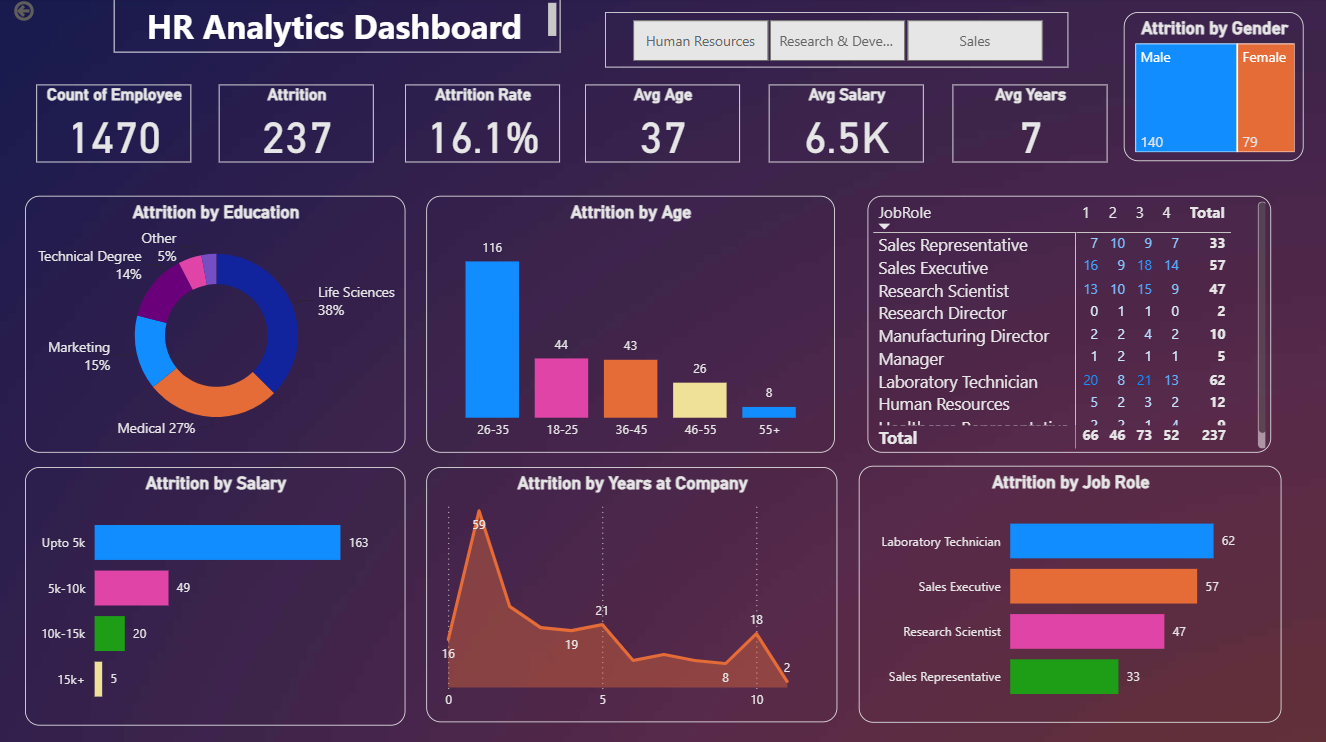

The dashboard page shown, as its layout file describes it:
{"tool":"powerbi","page":{"name":"Page 1","canvas":[1280,720],"ordinal":0},"visuals":[{"type":"card","title":"Count of Employee","fields":{"Values":["CountNonNull(HR_Analytics.EmpID)"]},"box":[35.3,84,149.5,75.6],"z":0},{"type":"card","title":"Attrition","fields":{"Values":["Sum(HR_Analytics.AttritionCount)"]},"box":[211.7,84,149.5,75.6],"z":1000},{"type":"card","title":"Attrition Rate","fields":{"Values":["HR_Analytics.AttritionRate"]},"box":[391.4,84,149.5,75.6],"z":2000},{"type":"card","title":"Avg Age","fields":{"Values":["Avg(HR_Analytics.Age)"]},"box":[564.4,84,149.5,75.6],"z":3000},{"type":"actionButton","box":[10.1,0,100.8,26.9],"z":4000},{"type":"card","title":"Avg Salary","fields":{"Values":["Avg(HR_Analytics.MonthlyIncome)"]},"box":[742.5,84,149.5,75.6],"z":5000},{"type":"card","title":"Avg Years","fields":{"Values":["Avg(HR_Analytics.YearsAtCompany)"]},"box":[918.8,84,149.5,75.6],"z":6000},{"type":"donutChart","title":"Attrition by Education","fields":{"Y":["Sum(HR_Analytics.AttritionCount)"],"Category":["HR_Analytics.EducationField","HR_Analytics.YearsAtCompany"]},"box":[24.1,191.3,367.1,248],"z":7000},{"type":"columnChart","title":"Attrition by Age","fields":{"Category":["HR_Analytics.AgeGroup"],"Y":["Sum(HR_Analytics.AttritionCount)"]},"box":[411,191.3,394,248],"z":8000},{"type":"pivotTable","fields":{"Rows":["HR_Analytics.JobRole"],"Columns":["HR_Analytics.JobSatisfaction"],"Values":["Sum(HR_Analytics.AttritionCount)"]},"box":[837.6,191.3,389.8,248],"z":9000},{"type":"barChart","title":"Attrition by Salary","fields":{"Category":["HR_Analytics.SalarySlab"],"Y":["Sum(HR_Analytics.AttritionCount)"]},"box":[24.1,453.5,367.1,249.4],"z":10000},{"type":"barChart","title":"Attrition by Job Role","fields":{"Category":["HR_Analytics.JobRole"],"Y":["Sum(HR_Analytics.AttritionCount)"]},"box":[829.1,452.1,408.2,248],"z":11000},{"type":"areaChart","title":"Attrition by Years at Company","fields":{"Category":["HR_Analytics.YearsAtCompany"],"Y":["Sum(HR_Analytics.AttritionCount)"]},"box":[411,453.5,396.9,246.6],"z":12000},{"type":"treemap","title":"Attrition by Gender","fields":{"Group":["HR_Analytics.Gender"],"Values":["Sum(HR_Analytics.AttritionCount)"]},"box":[1085,14.1,174,144.3],"z":13000},{"type":"slicer","fields":{"Values":["HR_Analytics.Department"]},"box":[584.2,14.1,447,53.8],"z":14000},{"type":"textbox","box":[110.3,0,431.4,53.8],"z":15000}]}

Visuals, with their boxes in screenshot pixels (x1, y1, x2, y2), scaled from the page's 1280x720 canvas onto the 1326x742 screenshot:
"Count of Employee" card: BBox(37, 87, 191, 164)
"Attrition" card: BBox(219, 87, 374, 164)
"Attrition Rate" card: BBox(405, 87, 560, 164)
"Avg Age" card: BBox(585, 87, 740, 164)
actionButton: BBox(10, 0, 115, 28)
"Avg Salary" card: BBox(769, 87, 924, 164)
"Avg Years" card: BBox(952, 87, 1107, 164)
"Attrition by Education" donutChart: BBox(25, 197, 405, 453)
"Attrition by Age" columnChart: BBox(426, 197, 834, 453)
pivotTable - HR_Analytics.JobRole x HR_Analytics.JobSatisfaction: BBox(868, 197, 1272, 453)
"Attrition by Salary" barChart: BBox(25, 467, 405, 724)
"Attrition by Job Role" barChart: BBox(859, 466, 1282, 721)
"Attrition by Years at Company" areaChart: BBox(426, 467, 837, 721)
"Attrition by Gender" treemap: BBox(1124, 15, 1304, 163)
slicer - HR_Analytics.Department: BBox(605, 15, 1068, 70)
textbox: BBox(114, 0, 561, 55)
